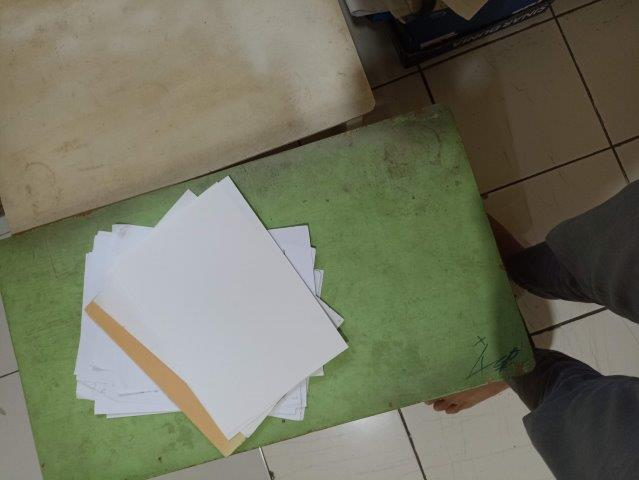kertas: (72, 176, 349, 458)
